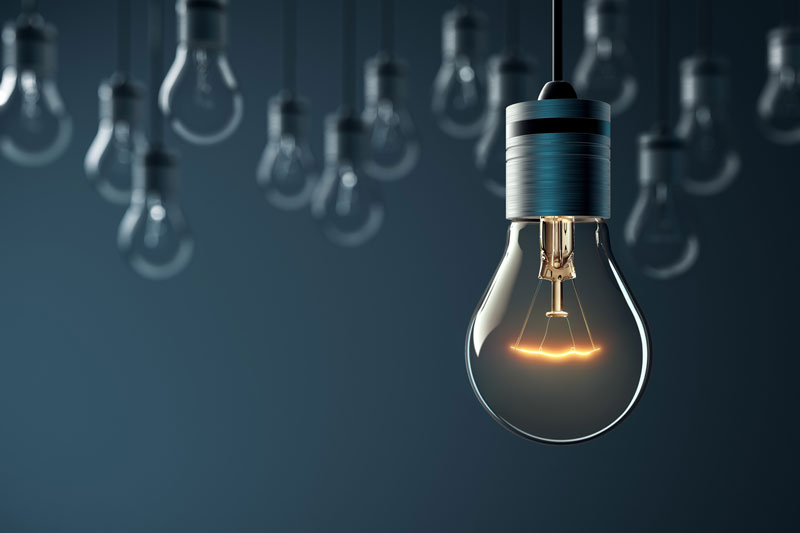Light_bulb: (437, 187, 670, 464)
